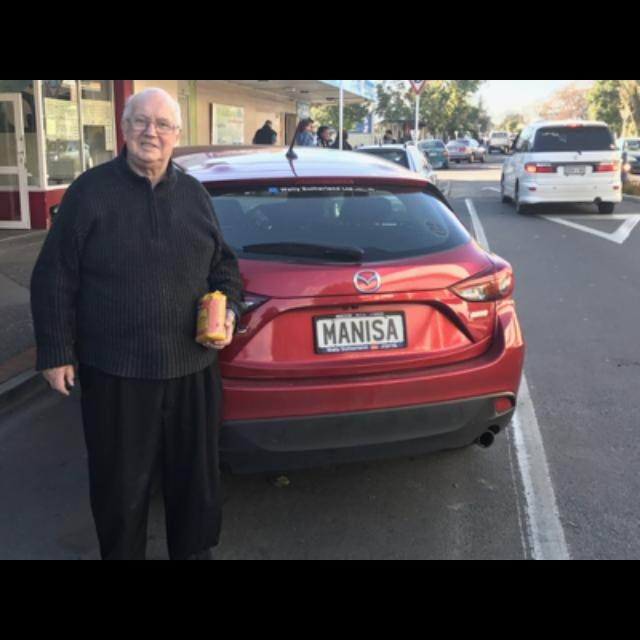carPlate: (313, 311, 408, 355)
